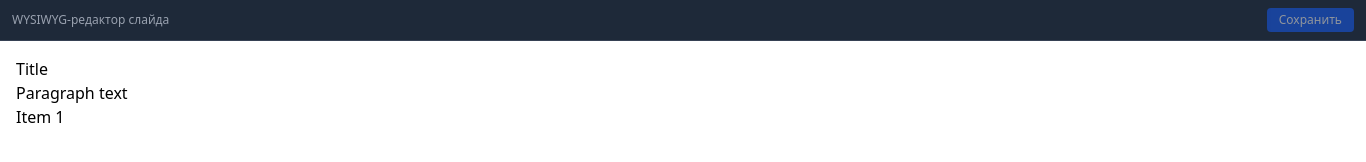
it: SlideTextEditor › clears dirty state after save
Note: Make dirty
Step 1. Clear the field with test id "slide-editor-content" → (683, 93), box [0,41,1365,145]
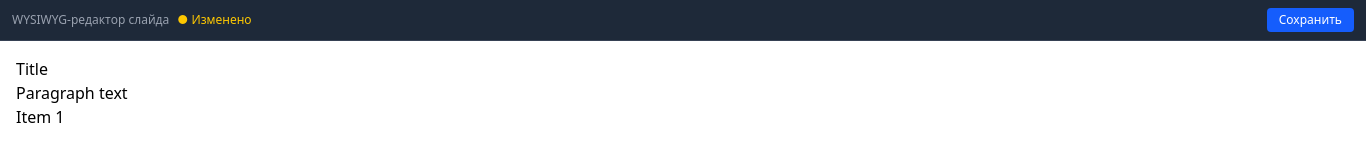
Check: the text "● Изменено" is shown, box [177,12,252,28]
Step 2. Click the button with test id "slide-editor-save" → (1310, 20), box [1267,8,1354,32]
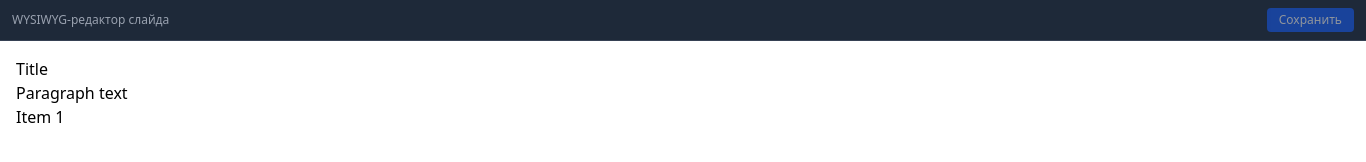
Check: the text with test id "slide-editor-dirty" is gone
